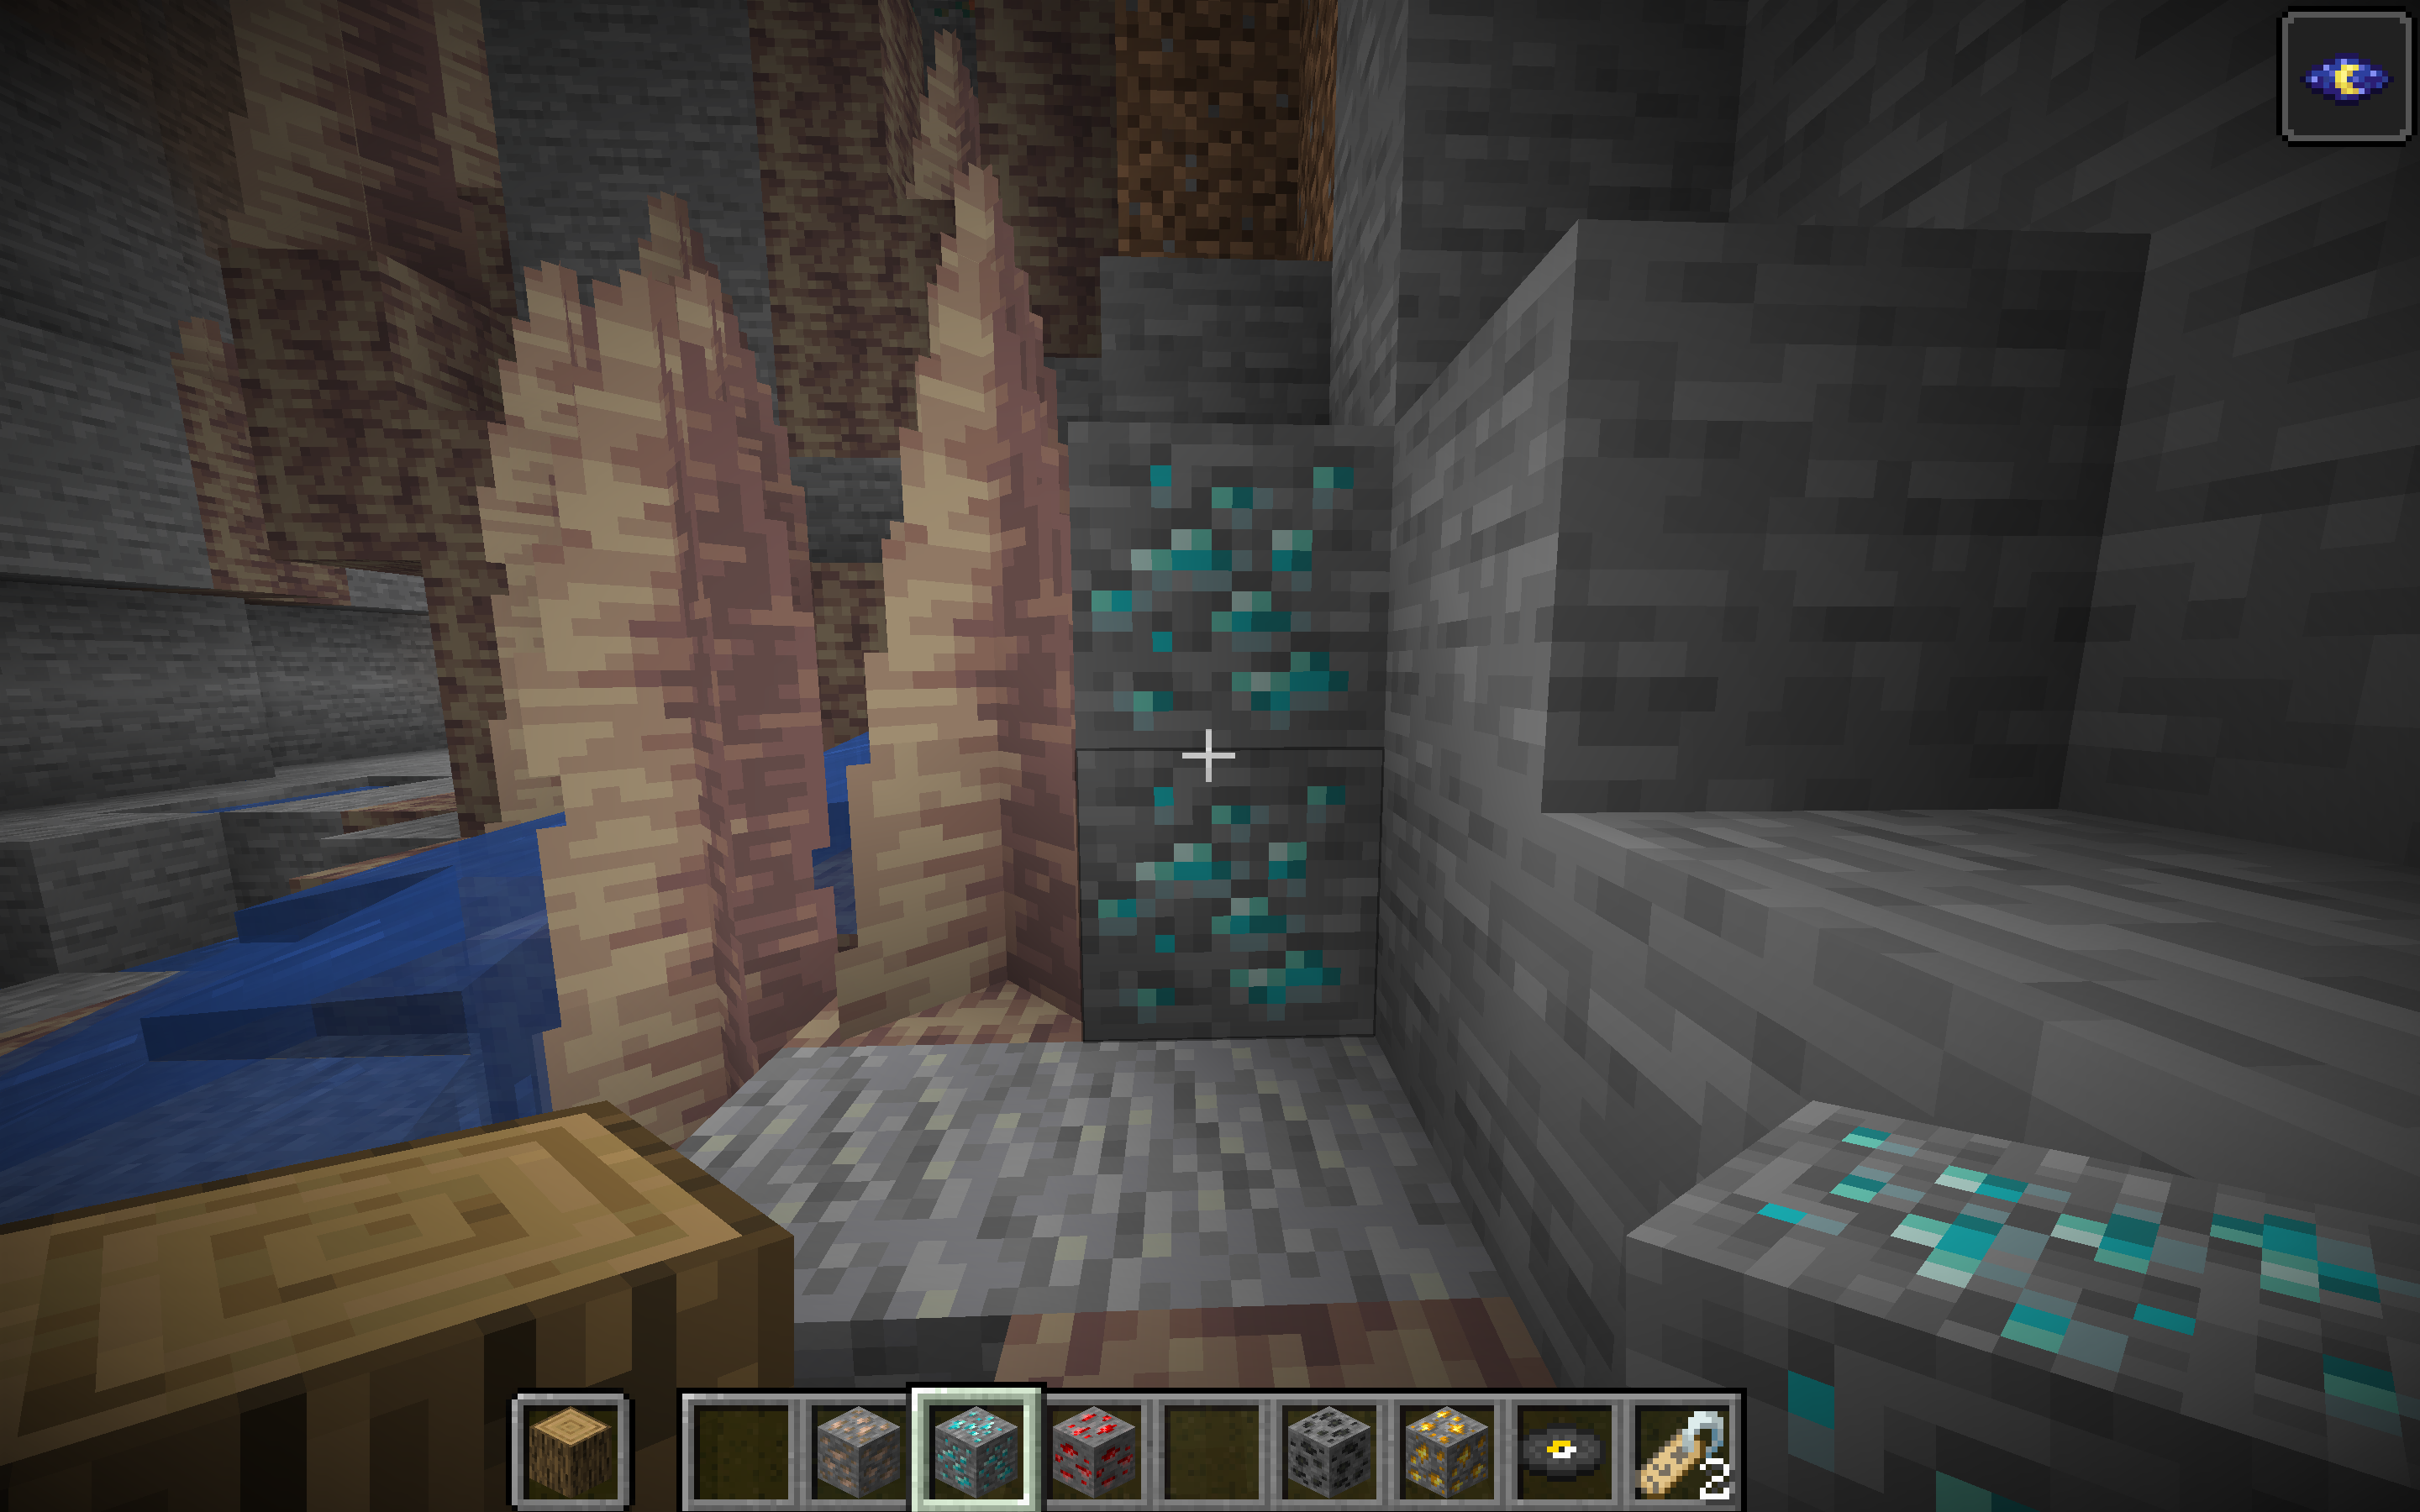diamond: (625, 294, 1842, 1103)
